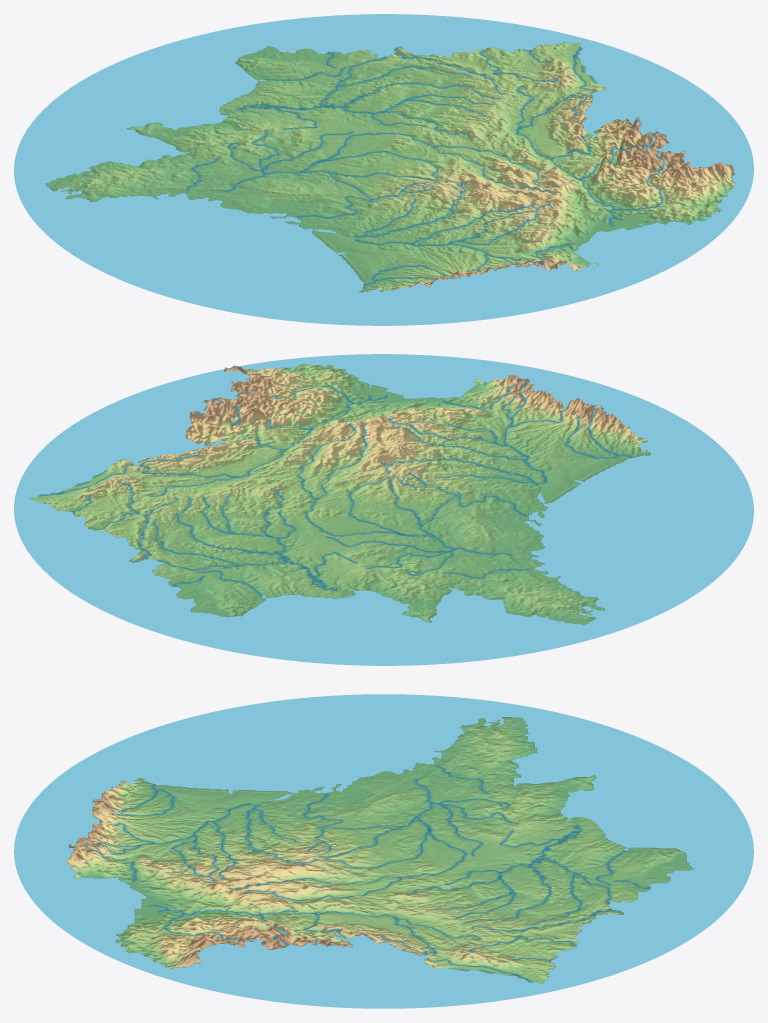
The model's file is FRA-terrain.glb.
3 views of the same model, one above another, from view 1: azimuth 30°, elevation 25°; view 2: azimuth 150°, elevation 25°; view 3: azimuth 270°, elevation 25° (orthographic).
Parts seen in each view (by area): view 1: Relevo com hidrografia; view 2: Relevo com hidrografia; view 3: Relevo com hidrografia.
Boxes of the visible parts, bbox=[...] form: Relevo com hidrografia: bbox=[14, 14, 753, 325]; Relevo com hidrografia: bbox=[14, 354, 753, 665]; Relevo com hidrografia: bbox=[14, 694, 753, 1008].
Bounding box in the file's own units: 1.89 × 0.0611 × 1.88.
Materials: 2 (1 with a texture image).
